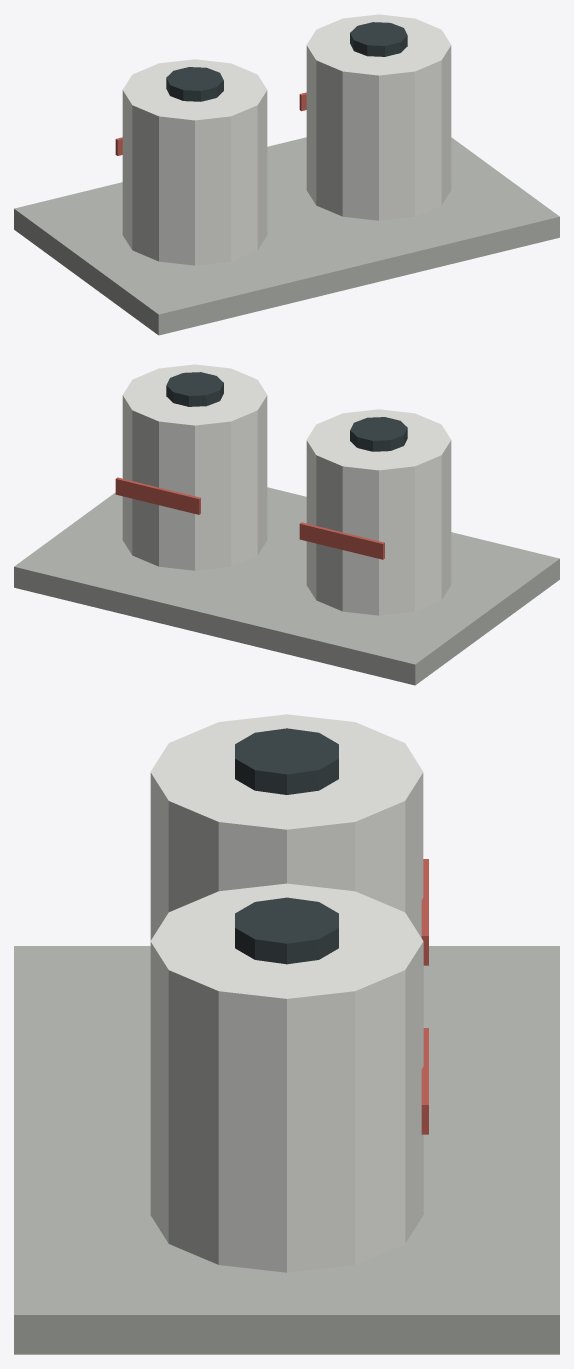
Rendered from MIL_FuelTanks.fbx.
The picture shows the model from 3 angles, top to bottom: view 1: azimuth 30°, elevation 25°; view 2: azimuth 150°, elevation 25°; view 3: azimuth 270°, elevation 25°; orthographic projection. The views are drawn at different scales.
Visible parts, largest first — view 1: MIL_FuelTanks_MAT_IslandWhite, Base.002, MIL_FuelTanks_Gunmetal; view 2: MIL_FuelTanks_MAT_IslandWhite, Base.002, MIL_FuelTanks_Gunmetal, MIL_FuelTanks_MAT_IslandRed; view 3: Base.002, MIL_FuelTanks_MAT_IslandWhite, MIL_FuelTanks_Gunmetal, MIL_FuelTanks_MAT_IslandRed.
Boxes of the visible parts, left/top/right/bottom form: MIL_FuelTanks_MAT_IslandWhite: left=122, top=14, right=451, bottom=265; Base.002: left=14, top=137, right=559, bottom=335; MIL_FuelTanks_Gunmetal: left=166, top=22, right=407, bottom=101; MIL_FuelTanks_MAT_IslandWhite: left=122, top=364, right=451, bottom=615; Base.002: left=14, top=487, right=559, bottom=685; MIL_FuelTanks_Gunmetal: left=166, top=372, right=407, bottom=451; MIL_FuelTanks_MAT_IslandRed: left=115, top=477, right=384, bottom=559; Base.002: left=14, top=946, right=559, bottom=1354; MIL_FuelTanks_MAT_IslandWhite: left=150, top=714, right=423, bottom=1272; MIL_FuelTanks_Gunmetal: left=235, top=728, right=338, bottom=964; MIL_FuelTanks_MAT_IslandRed: left=421, top=859, right=428, bottom=1134.
Size of the model in its own units: 480 by 203 by 300.
